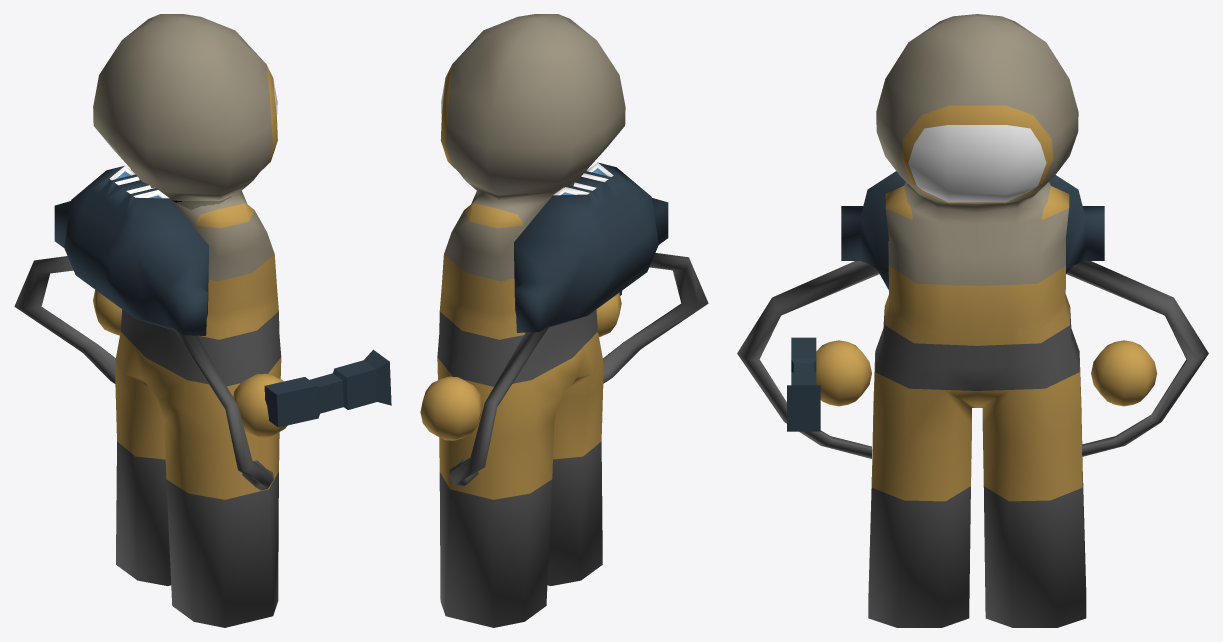
Rendered from astronauta2-1.fbx.
3 renders of one model, left to right at view 1: azimuth 30°, elevation 25°; view 2: azimuth 150°, elevation 25°; view 3: azimuth 270°, elevation 25°, orthographic. The views are drawn at different scales.
Parts seen in each view (by area): view 1: Corpo, Mochila, Arma; view 2: Corpo, Mochila; view 3: Corpo, Mochila, Arma.
Part boxes in pixels (box(x1,y1,x2,y2)): Corpo: box(93, 14, 287, 627); Mochila: box(14, 165, 273, 490); Arma: box(264, 349, 391, 427); Corpo: box(420, 14, 625, 627); Mochila: box(449, 162, 708, 487); Corpo: box(816, 14, 1157, 627); Mochila: box(737, 171, 1208, 458); Arma: box(787, 337, 820, 431).
Bounding box in the file's own units: 50.17 × 128 × 93.95.
